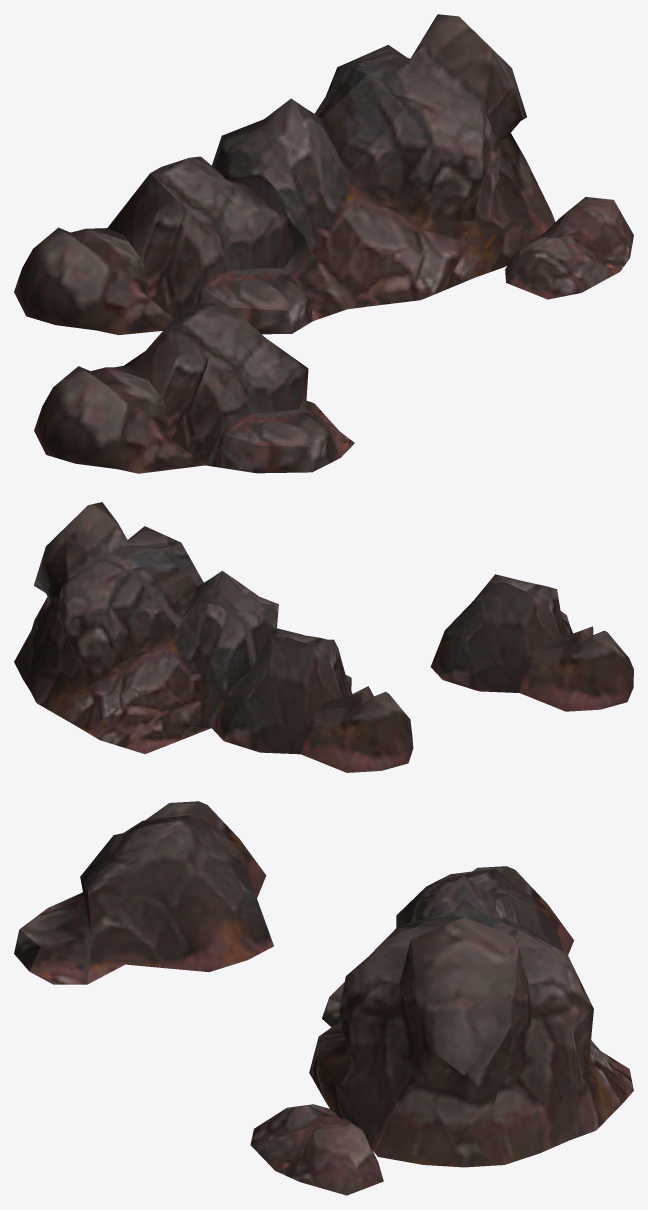
Rendered from tlfb03_shitou_02.FBX.
3 renders of one model, top to bottom at view 1: azimuth 30°, elevation 25°; view 2: azimuth 150°, elevation 25°; view 3: azimuth 270°, elevation 25°, orthographic. The views are drawn at different scales.
Parts seen in each view (by area): view 1: tlfb03_shitou_03, tlfb03_shitou_02; view 2: tlfb03_shitou_03, tlfb03_shitou_02; view 3: tlfb03_shitou_03, tlfb03_shitou_02.
Boxes of the visible parts, x1,y1,x2,y2 form: tlfb03_shitou_03: [14, 14, 633, 335]; tlfb03_shitou_02: [34, 303, 354, 473]; tlfb03_shitou_03: [14, 502, 413, 772]; tlfb03_shitou_02: [430, 574, 633, 711]; tlfb03_shitou_03: [250, 866, 633, 1195]; tlfb03_shitou_02: [14, 801, 273, 984].
Bounding box in the file's own units: 441 × 137 × 338.
